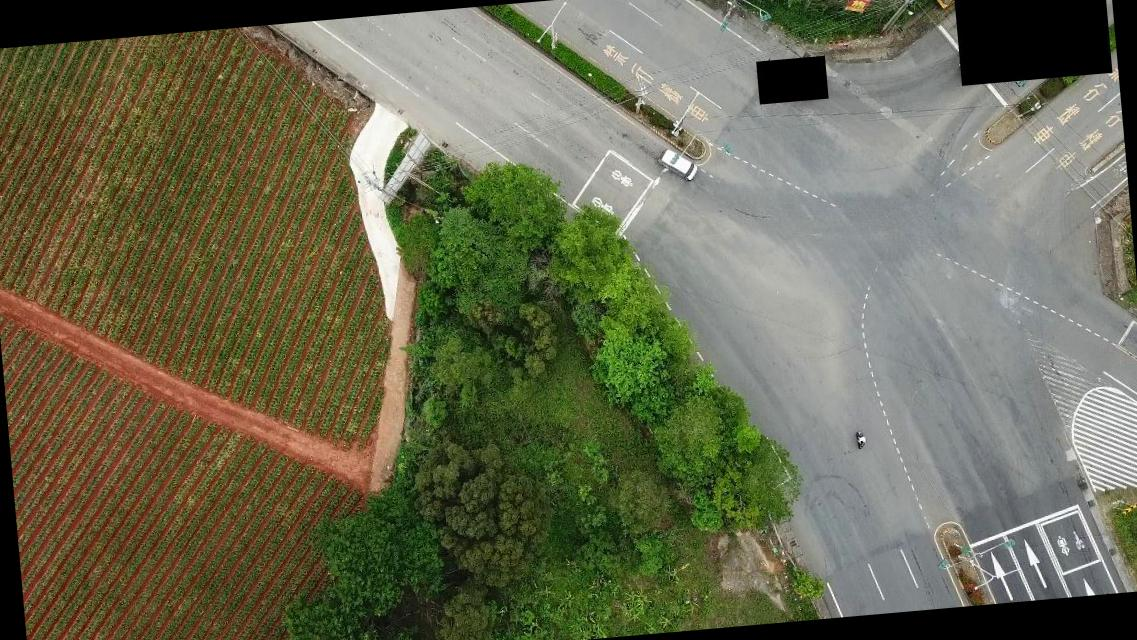vehicle: (656, 146, 700, 184), (935, 0, 973, 7)
